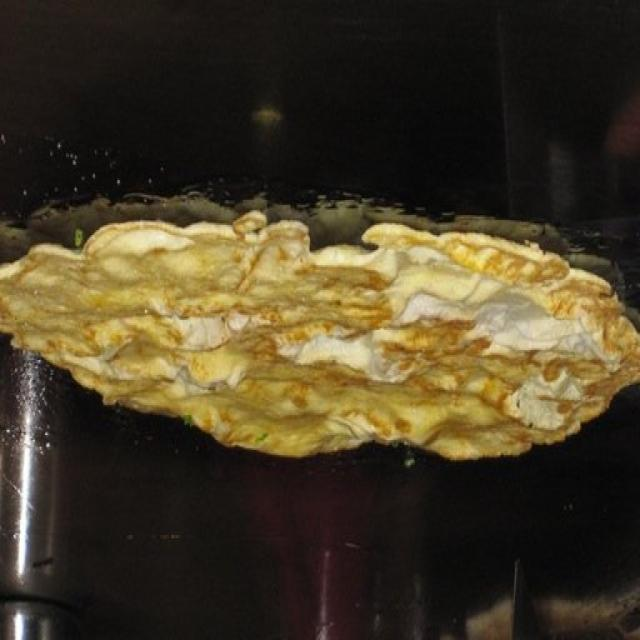telur_ayam_dadar: (0, 210, 639, 465)
